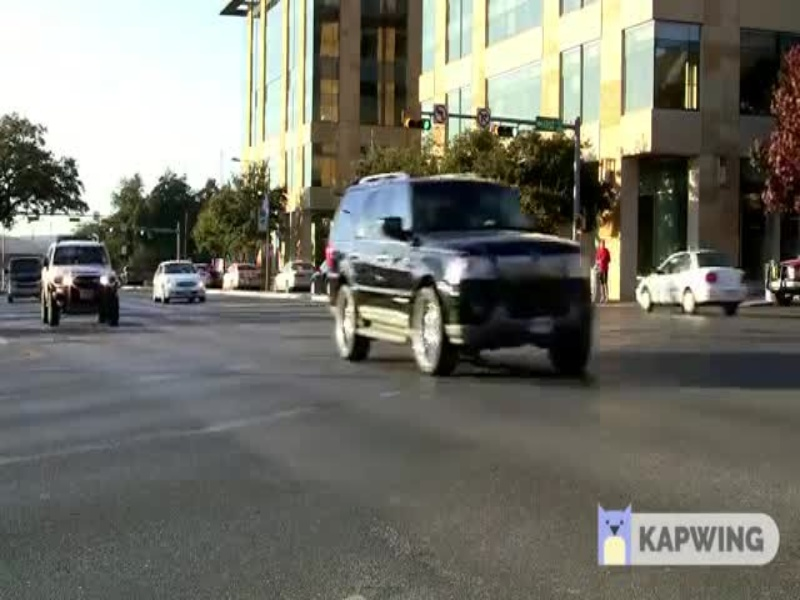car: (624, 225, 755, 336), (144, 253, 212, 312)
suv: (320, 170, 590, 376), (25, 230, 130, 346)
